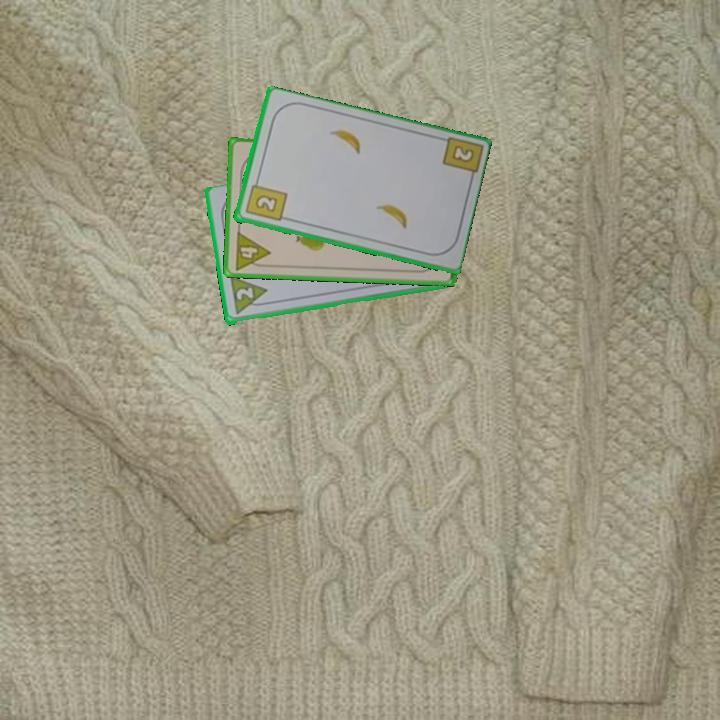2b: (242, 176, 289, 224), (448, 142, 477, 166)
2p: (226, 274, 272, 318)
4p: (231, 228, 273, 273)
